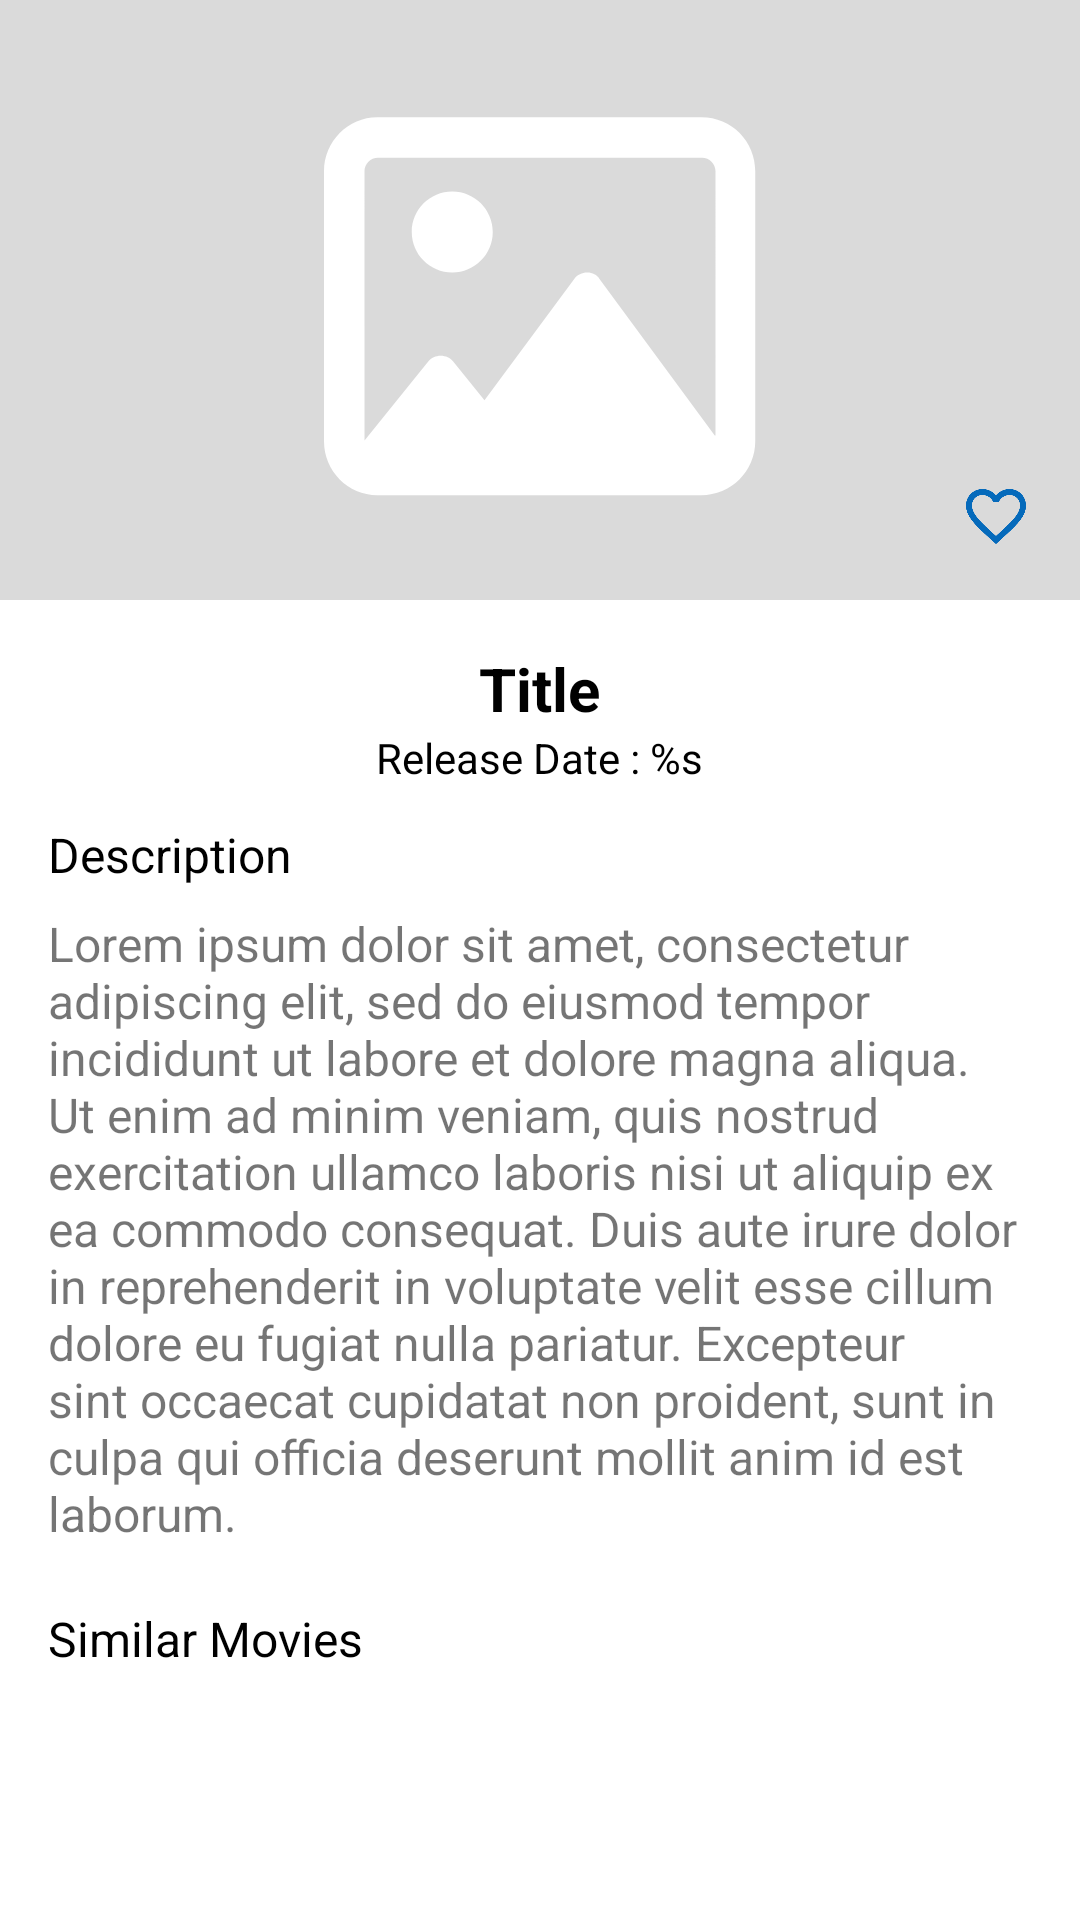

Point at icon controls on the screen. Image size 1080×1920, points as [x,y].
favorite border: [996,516]
